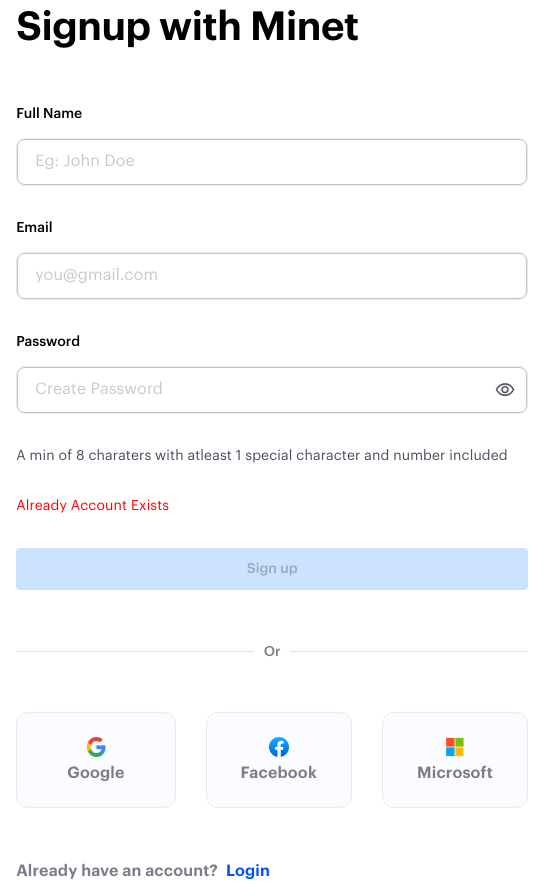
Scenario: Signup component › should handles invalid email and password input changes
The image size is (545, 896).
Type "John Doe" into the field with placeholder "Eg: John Doe".
click(268, 162); type("John Doe")  # box [21, 135, 515, 188]
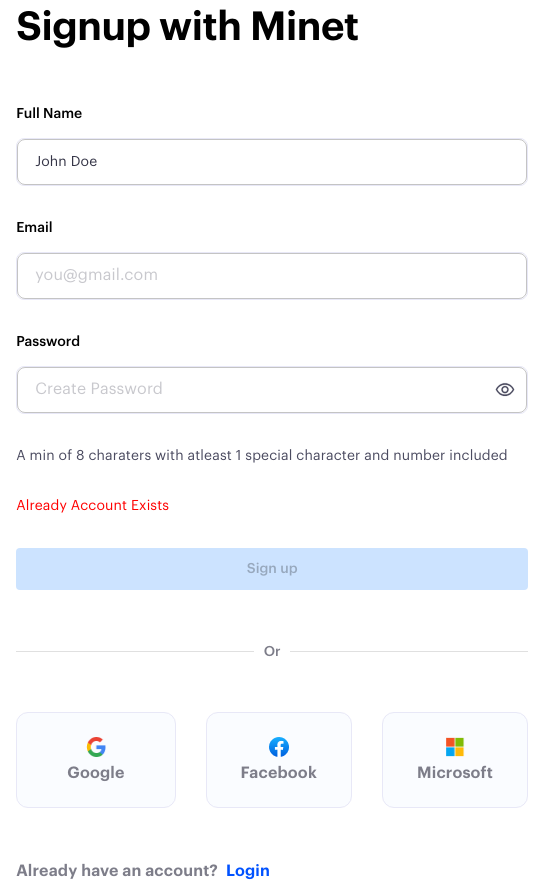
Type "johnxample.com" into the field with placeholder "you@gmail.com".
click(268, 276); type("johnxample.com")  # box [21, 249, 515, 302]
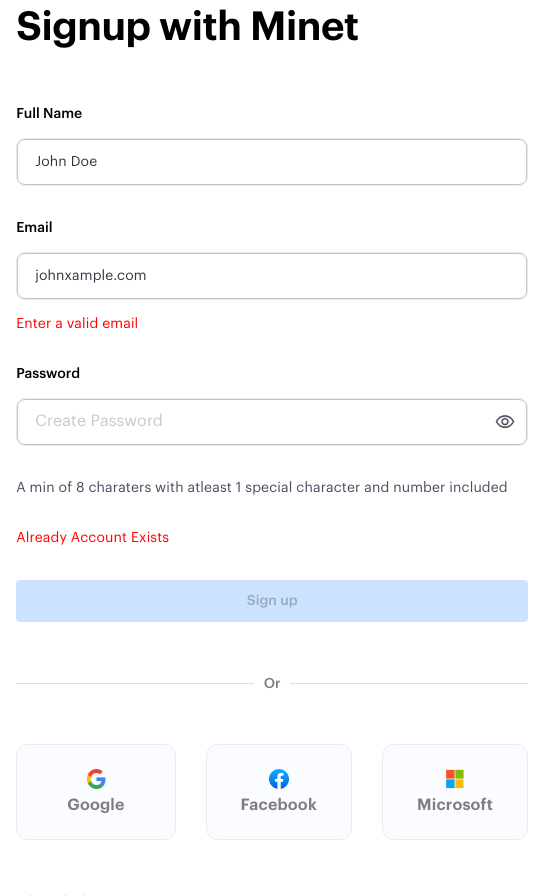
Type "password" into the field with placeholder "Create Password".
click(250, 422); type("password")  # box [21, 395, 479, 448]
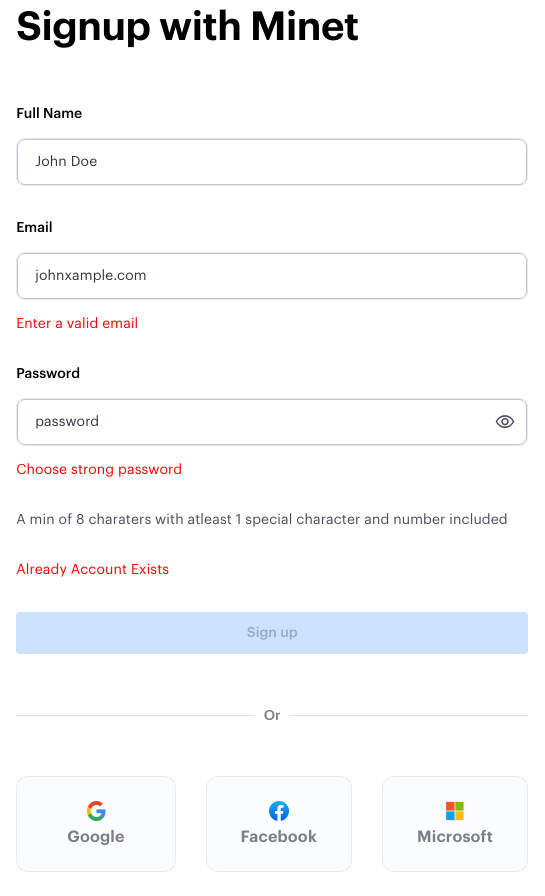
Expected: the text "Enter a valid email" is shown, [16, 317, 138, 331]
Expected: the text "Choose strong password" is shown, [16, 463, 182, 477]
